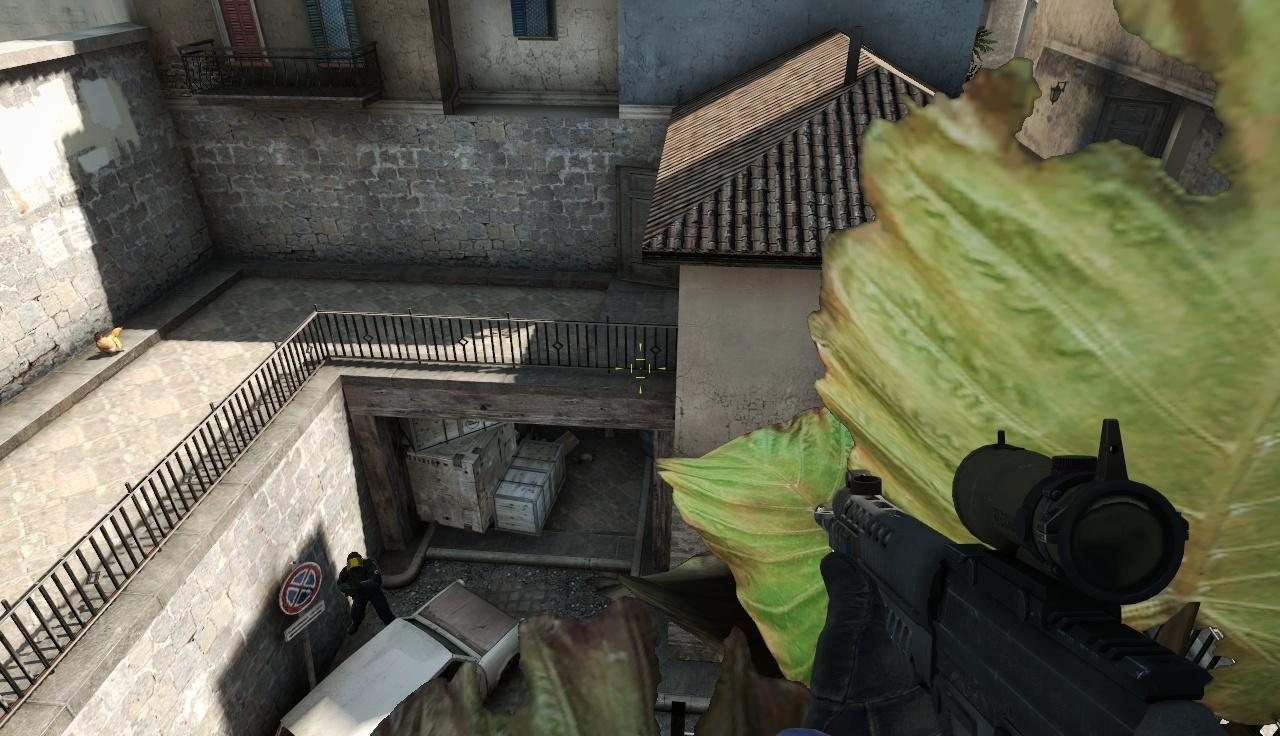ct: (337, 551, 385, 623)
cthead: (346, 552, 365, 575)
rifle: (814, 430, 1280, 736)
